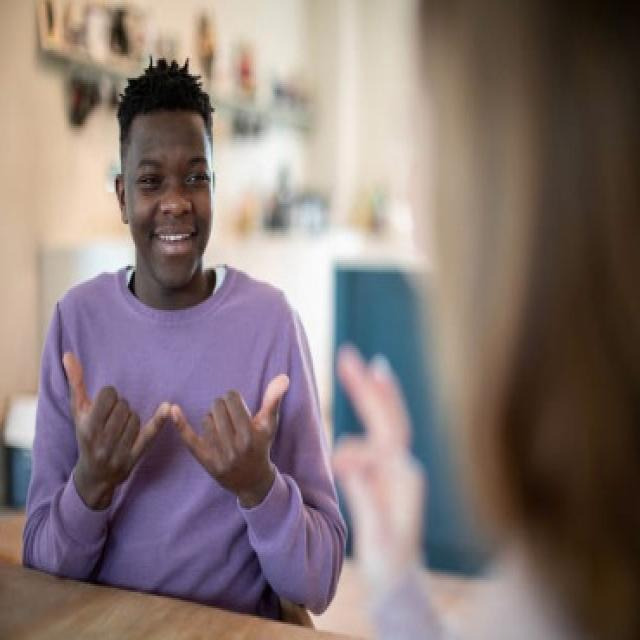adult: (20, 54, 350, 624)
